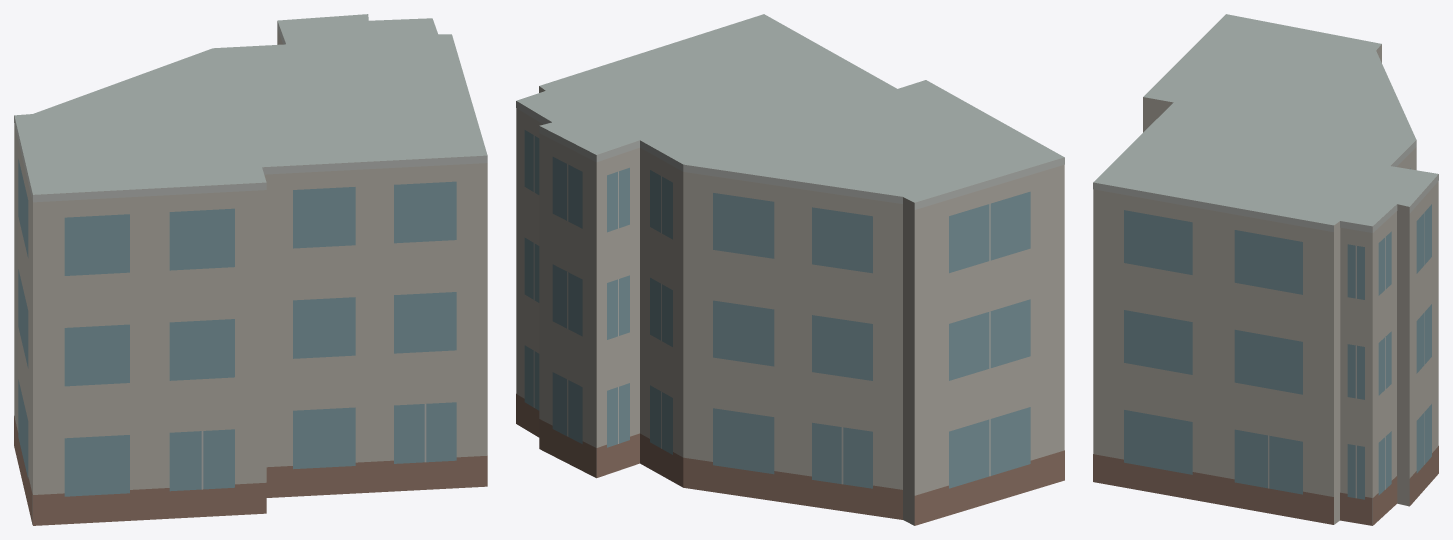
File: survey-upis-32916793.glb
The picture shows the model from 3 angles, left to right: view 1: azimuth 30°, elevation 25°; view 2: azimuth 150°, elevation 25°; view 3: azimuth 270°, elevation 25°; orthographic projection. The views are drawn at different scales.
Parts seen in each view (by area): view 1: survey-upis-32916793.tmp; view 2: survey-upis-32916793.tmp; view 3: survey-upis-32916793.tmp.
Boxes of the visible parts, x1,y1,x2,y2 form: survey-upis-32916793.tmp: (14, 14, 487, 525); survey-upis-32916793.tmp: (516, 14, 1064, 525); survey-upis-32916793.tmp: (1093, 14, 1438, 525).
Size of the model in its own units: 16.4 by 10.78 by 11.28.
